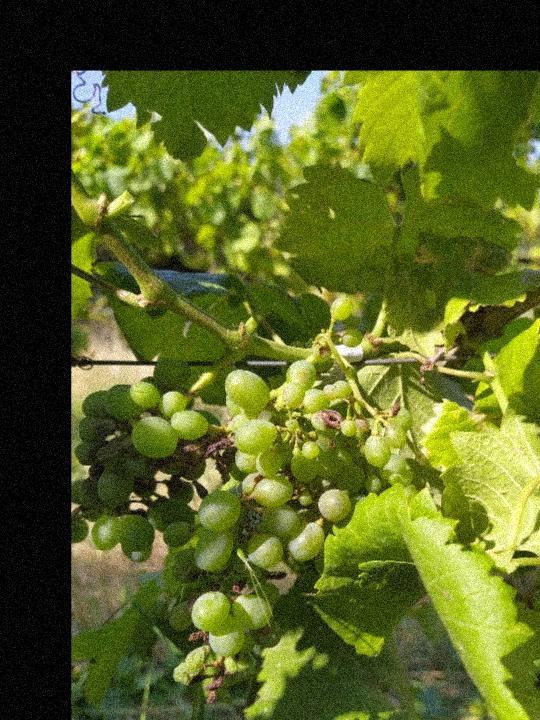grape: (162, 296, 413, 707), (73, 357, 213, 568)
